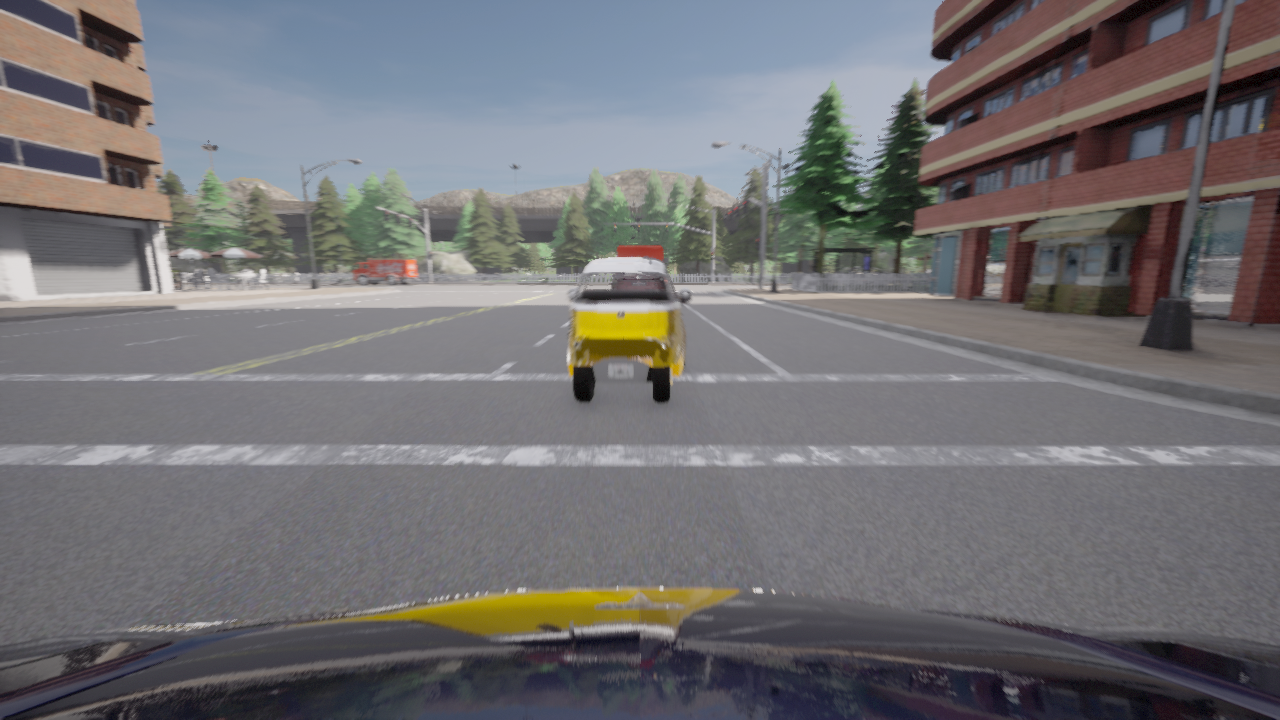cyclist: (0, 588, 1279, 719), (567, 258, 691, 403), (352, 259, 418, 285), (617, 246, 663, 262), (870, 267, 886, 277)
